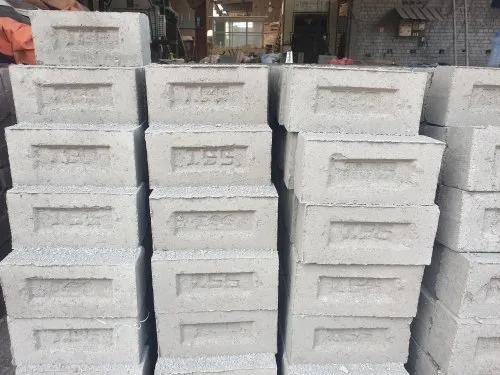brick: (290, 67, 426, 136), (298, 137, 445, 200), (300, 202, 441, 264), (7, 192, 136, 254), (292, 260, 423, 317), (1, 265, 139, 319), (148, 129, 272, 189), (152, 257, 281, 314), (12, 68, 135, 127), (7, 130, 133, 187), (148, 68, 266, 127), (10, 316, 136, 371), (150, 197, 278, 250), (291, 313, 412, 368), (158, 310, 278, 363), (33, 11, 145, 66)
